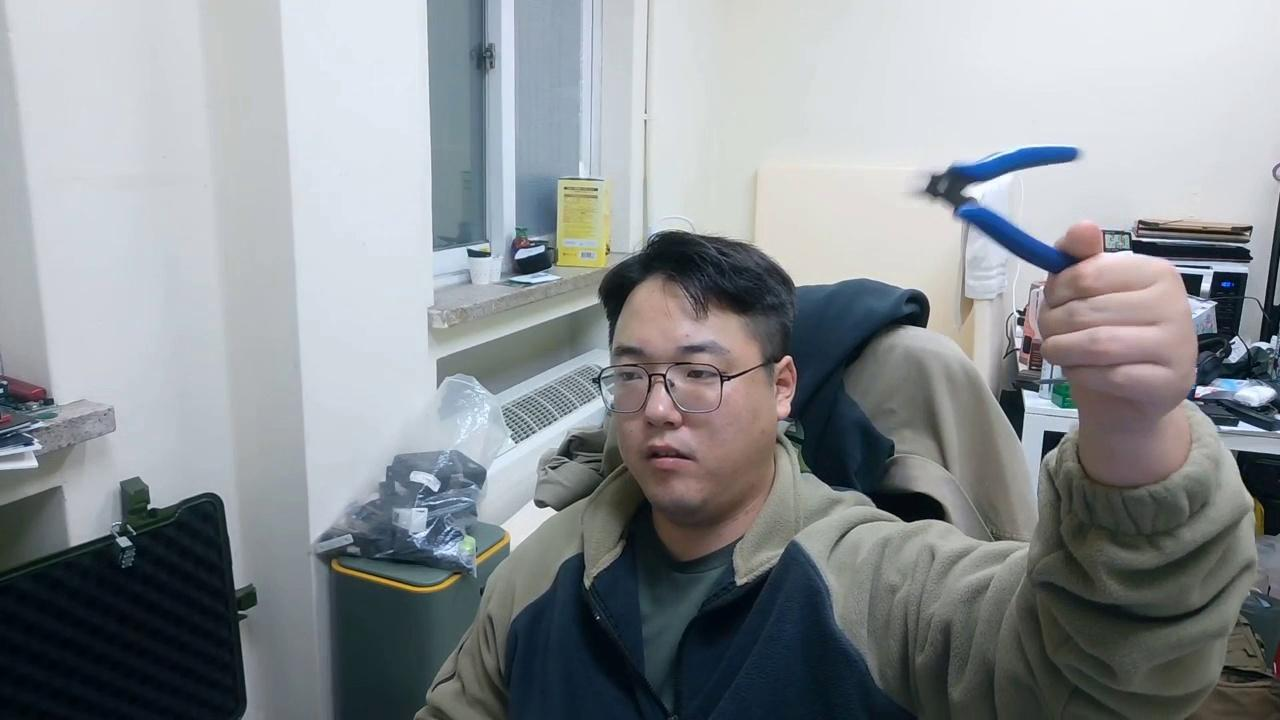blue_pliers: (924, 143, 1085, 276)
